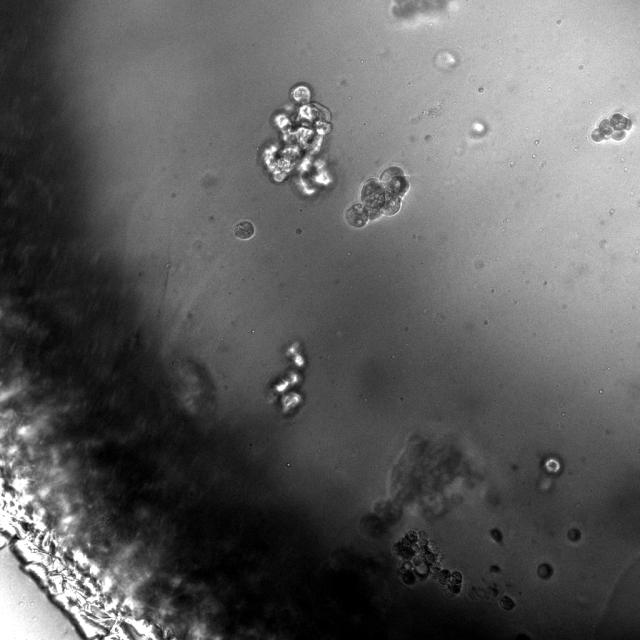organoid: (357, 431, 502, 545), (259, 83, 332, 196), (392, 530, 462, 597), (345, 166, 409, 228), (269, 341, 307, 416), (589, 112, 632, 143), (391, 0, 451, 22), (233, 220, 254, 240), (543, 457, 562, 474), (536, 562, 554, 579), (498, 594, 515, 611), (490, 527, 503, 544), (567, 527, 581, 542)
